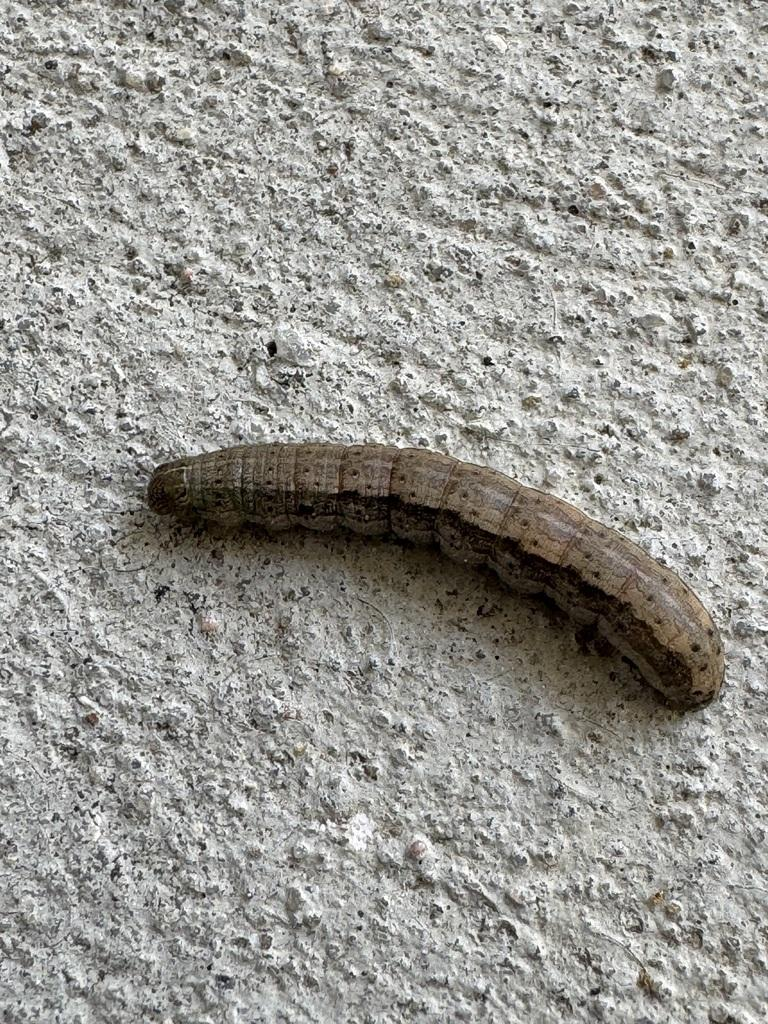caterpillars: (96, 383, 768, 776)
